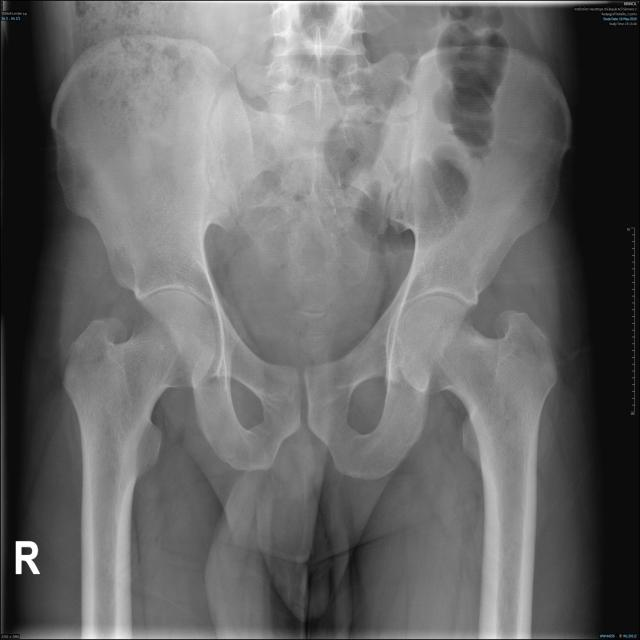normal-left: (395, 296, 557, 537)
normal-right: (62, 291, 216, 565)
